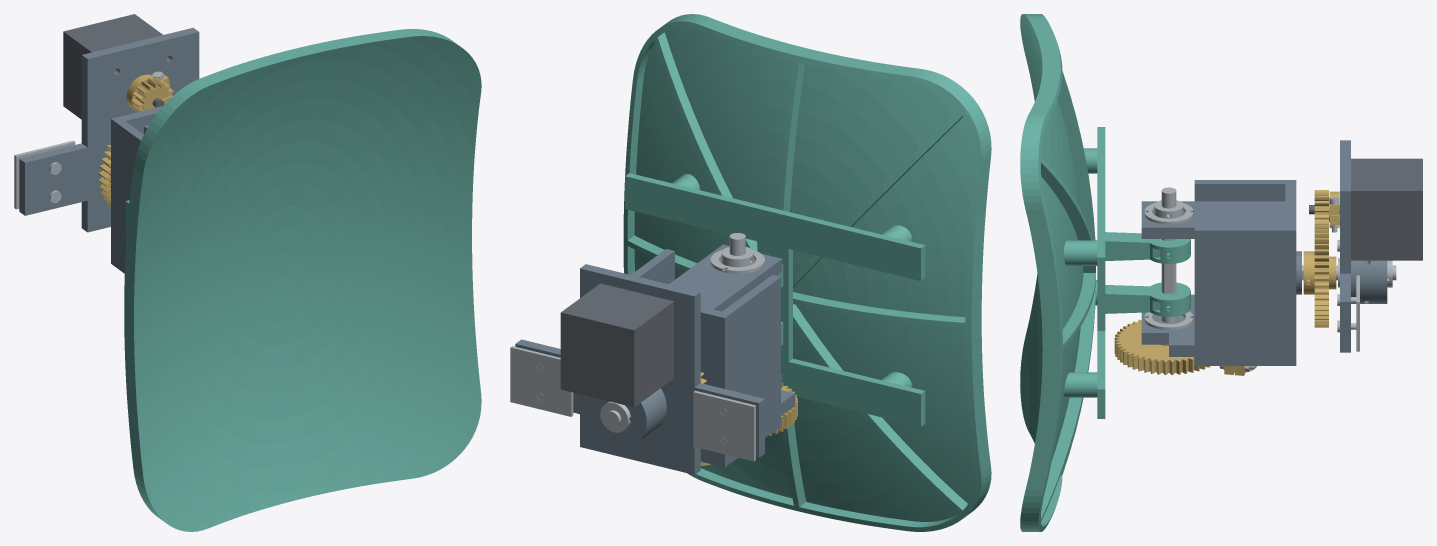
File: rakitan.glb
The picture shows the model from 3 angles, left to right: view 1: azimuth 30°, elevation 25°; view 2: azimuth 150°, elevation 25°; view 3: azimuth 270°, elevation 25°; orthographic projection. The views are drawn at different scales.
Visible parts, largest first — view 1: 18_flap, 1_flange, 5_motor, 8_frame, 6_pinion_pan, 2_backplates; view 2: 18_flap, 1_flange, 8_frame, 5_motor, 2_backplates, 10_retainers, 12_pan_collars; view 3: 18_flap, 8_frame, 5_motor, 1_flange, 19_driven, 14_driven, 9_caps, 10_retainers, 20_tilt_shaft, 6_pinion_pan.
Boxes of the visible parts, box(x1,y1,x2,y2) form: 18_flap: box(124, 29, 481, 531); 1_flange: box(19, 27, 199, 232); 5_motor: box(63, 14, 164, 119); 8_frame: box(111, 106, 162, 273); 6_pinion_pan: box(126, 74, 173, 112); 2_backplates: box(14, 140, 75, 209); 18_flap: box(623, 14, 991, 531); 1_flange: box(515, 264, 764, 474); 8_frame: box(631, 249, 795, 467); 5_motor: box(560, 283, 673, 407); 2_backplates: box(510, 346, 755, 461); 10_retainers: box(710, 250, 764, 273); 12_pan_collars: box(600, 401, 630, 432); 18_flap: box(1020, 14, 1190, 531); 8_frame: box(1169, 180, 1301, 365); 5_motor: box(1309, 158, 1422, 260); 1_flange: box(1340, 140, 1387, 352); 19_driven: box(1114, 319, 1210, 375); 14_driven: box(1303, 228, 1336, 327); 9_caps: box(1141, 201, 1168, 344); 10_retainers: box(1144, 203, 1193, 344); 20_tilt_shaft: box(1161, 187, 1176, 322); 6_pinion_pan: box(1314, 190, 1339, 228).
Size of the model in its own units: 200 by 250 by 221.
